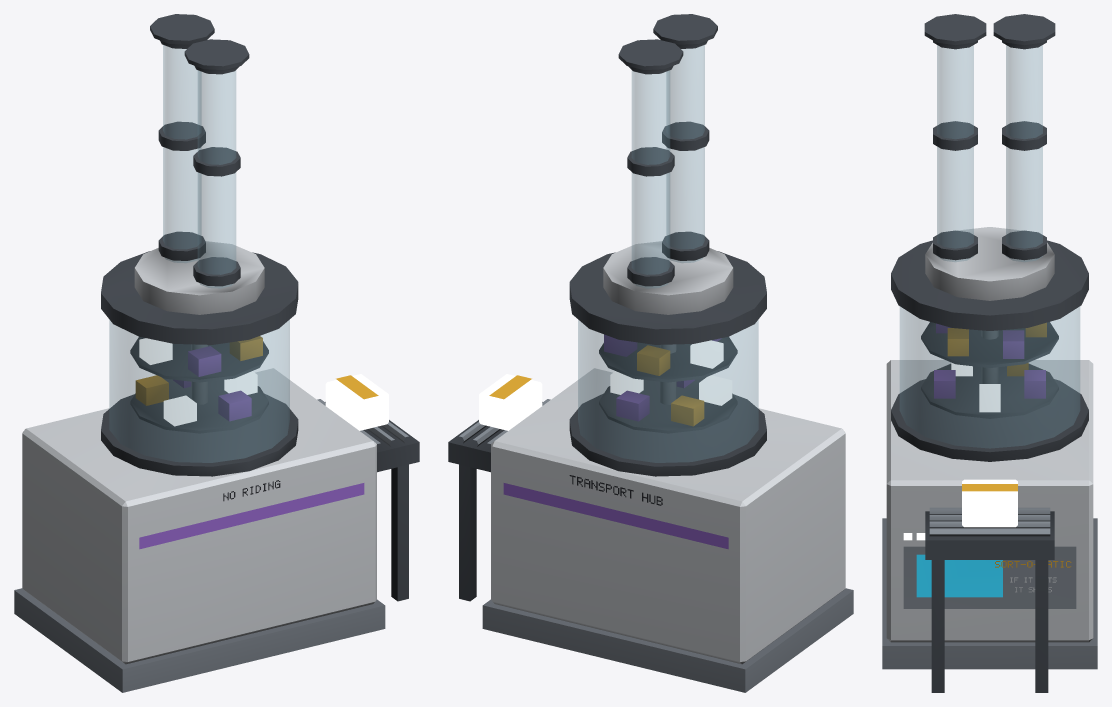
The model's file is transport_hub_l.glb.
3 views of the same model, side by side, from view 1: azimuth 30°, elevation 25°; view 2: azimuth 150°, elevation 25°; view 3: azimuth 270°, elevation 25° (orthographic).
Visible parts, largest first — view 1: Interior; view 2: Interior; view 3: Interior.
Boxes of the visible parts, box(x1,y1,x2,y2) form: Interior: box(14, 14, 419, 692); Interior: box(448, 14, 853, 692); Interior: box(882, 14, 1097, 692).
Bounding box in the file's own units: 1.7 × 2.96 × 1.
